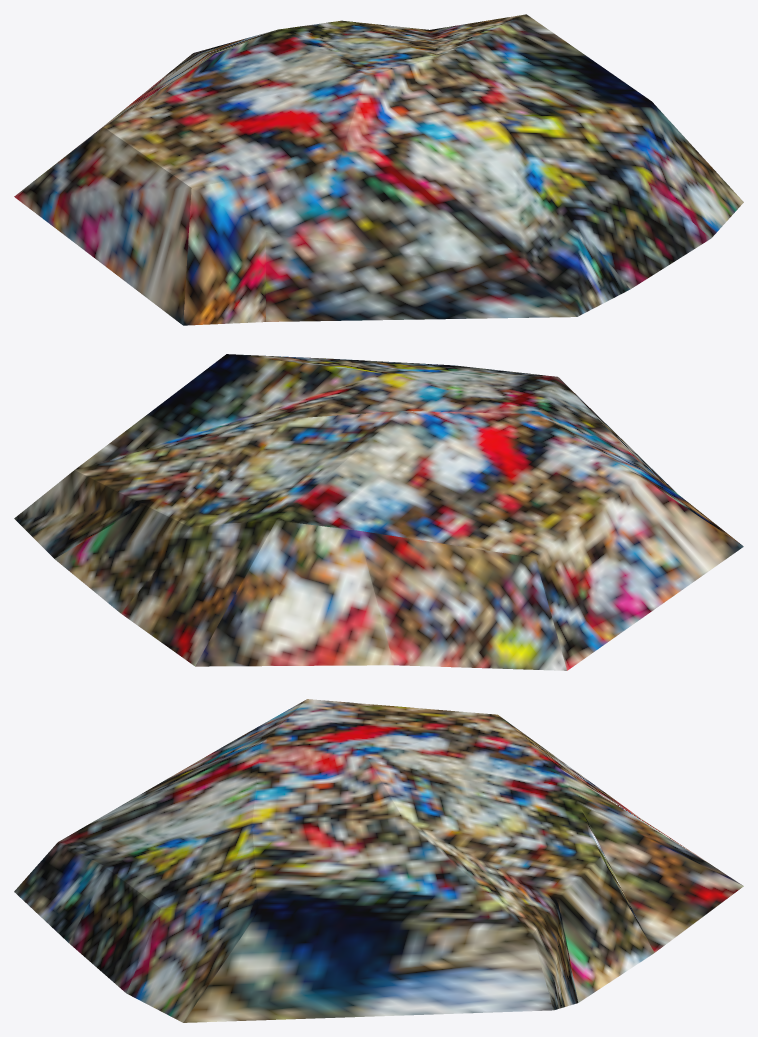
The model's file is Urban_Trashpile2006_Model.fbx.
3 views of the same model, one above another, from view 1: azimuth 30°, elevation 25°; view 2: azimuth 150°, elevation 25°; view 3: azimuth 270°, elevation 25° (orthographic).
Parts seen in each view (by area): view 1: Urban_Trashpile2006_Mesh; view 2: Urban_Trashpile2006_Mesh; view 3: Urban_Trashpile2006_Mesh.
Boxes of the visible parts, x1,y1,x2,y2 form: Urban_Trashpile2006_Mesh: (14,14,743,325); Urban_Trashpile2006_Mesh: (14,354,743,670); Urban_Trashpile2006_Mesh: (14,699,743,1022).
Bounding box in the file's own units: 0.6608 × 0.1502 × 0.7621.
